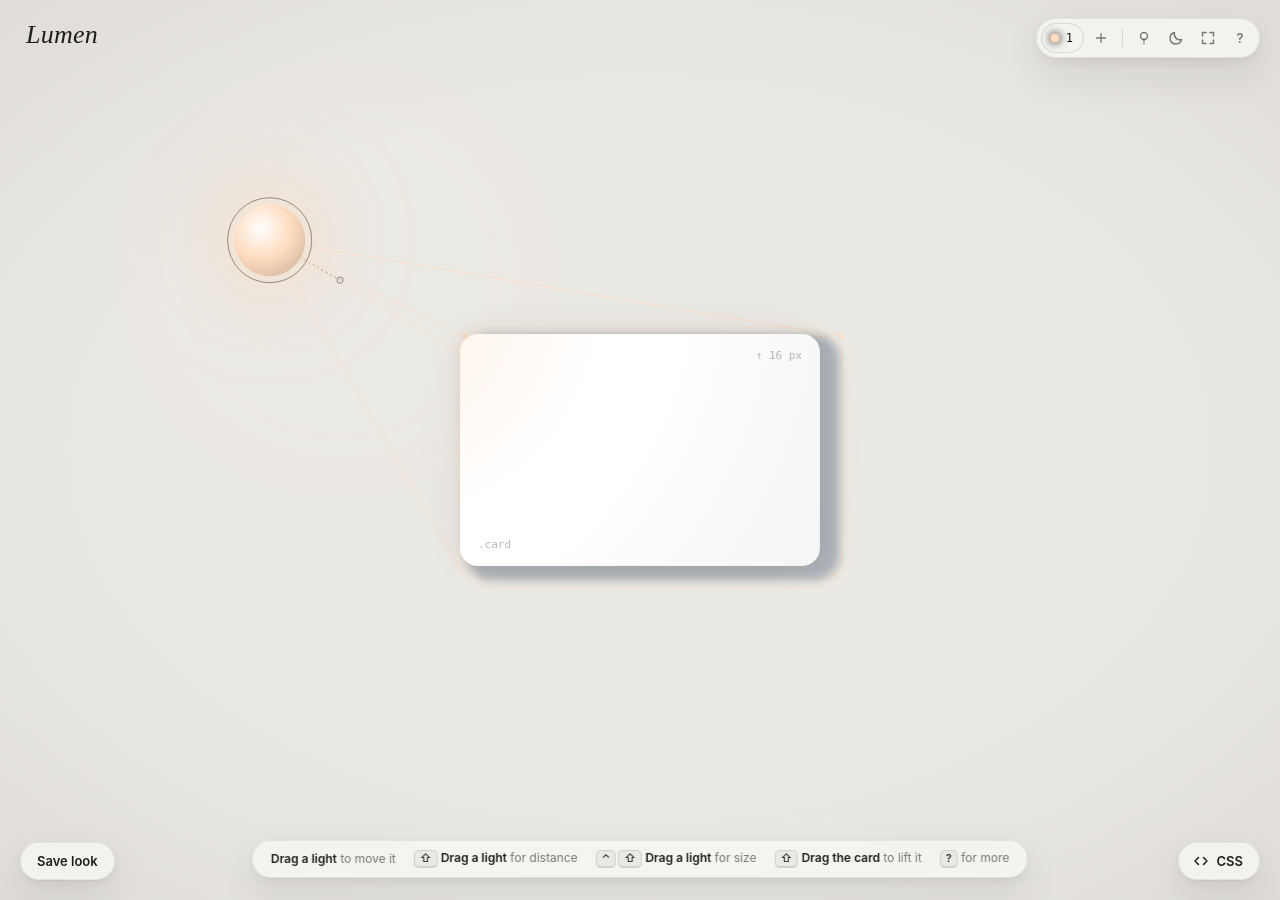
Test: one toggle, or L, hides the lights and their geometry but keeps their light
Expected: the element with class "construction" is shown, [270,240,850,587]
Click the button named "Hide lights and geometry": (1144, 38) [1129,23,1159,53]
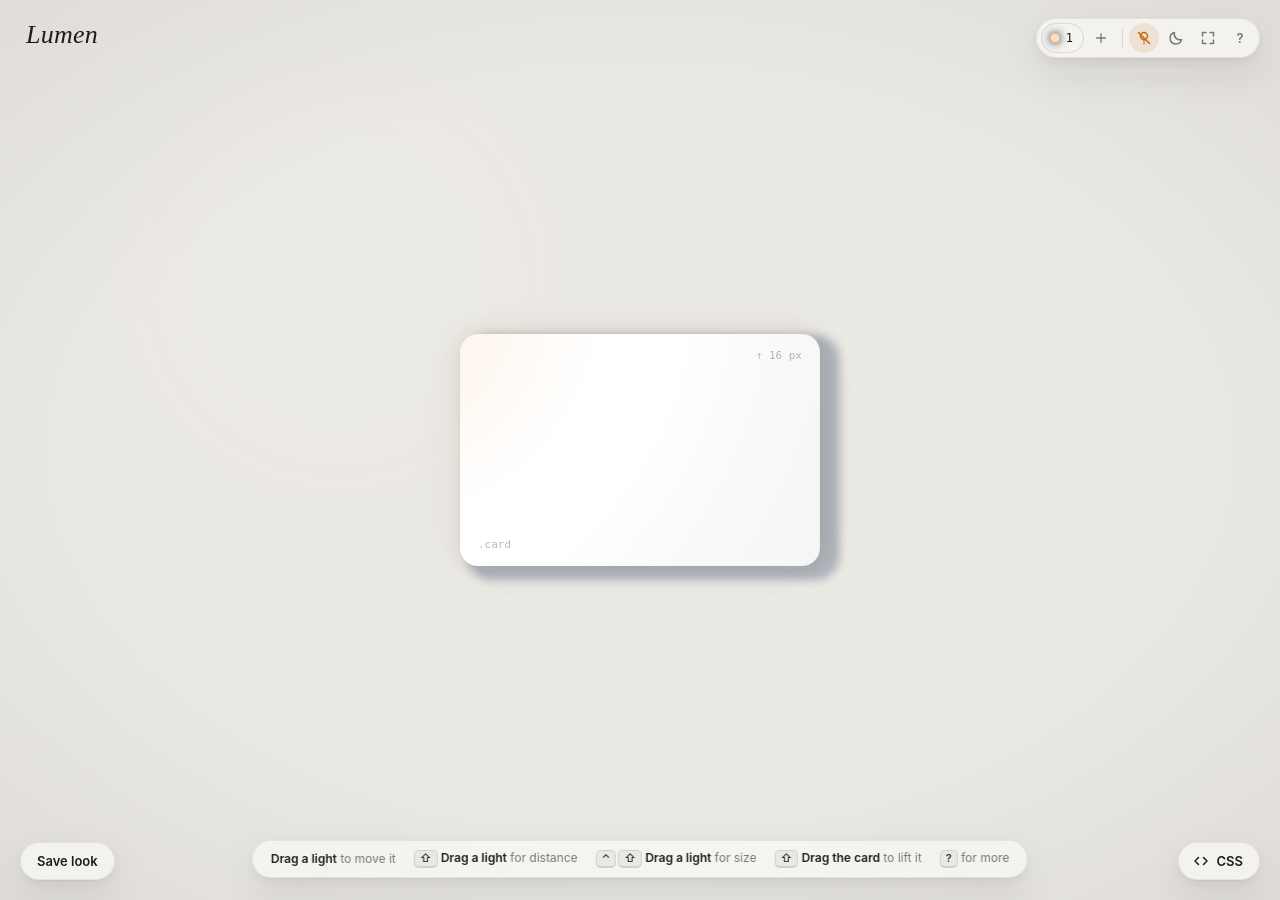
Expected: the button named "Hide lights and geometry" is pressed, [1129,23,1159,53]
Expected: the element with class "stage" has class "lights-hidden"
Press l
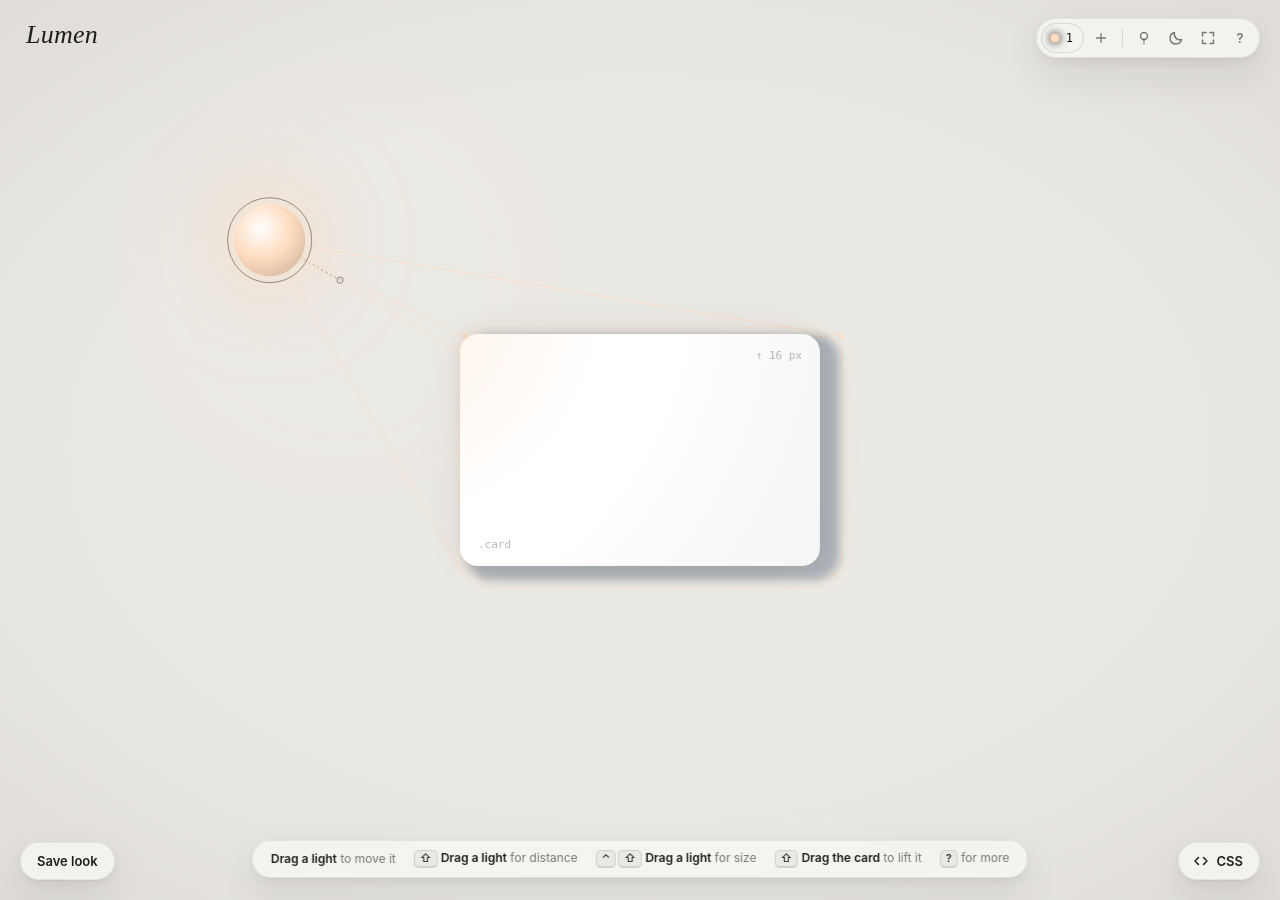
Expected: the number of buttons named "Light 1, 4600 kelvin" is 1, [234,204,305,276]
